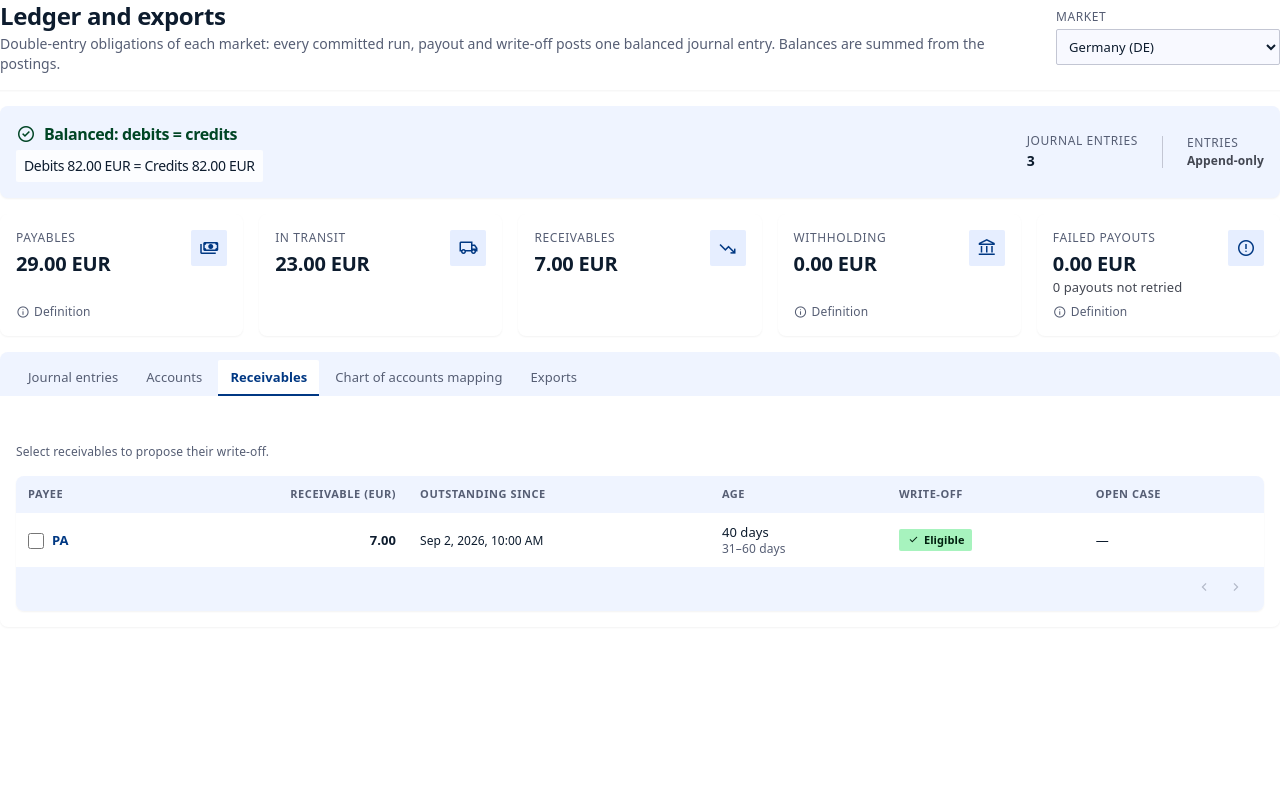
Test: LedgerPage (SC-33) › shows a payee whose case opened but did not submit, and retries only the submit
Step 1. Click the checkbox named "Select PA" → (36, 540), box [28,532,44,548]
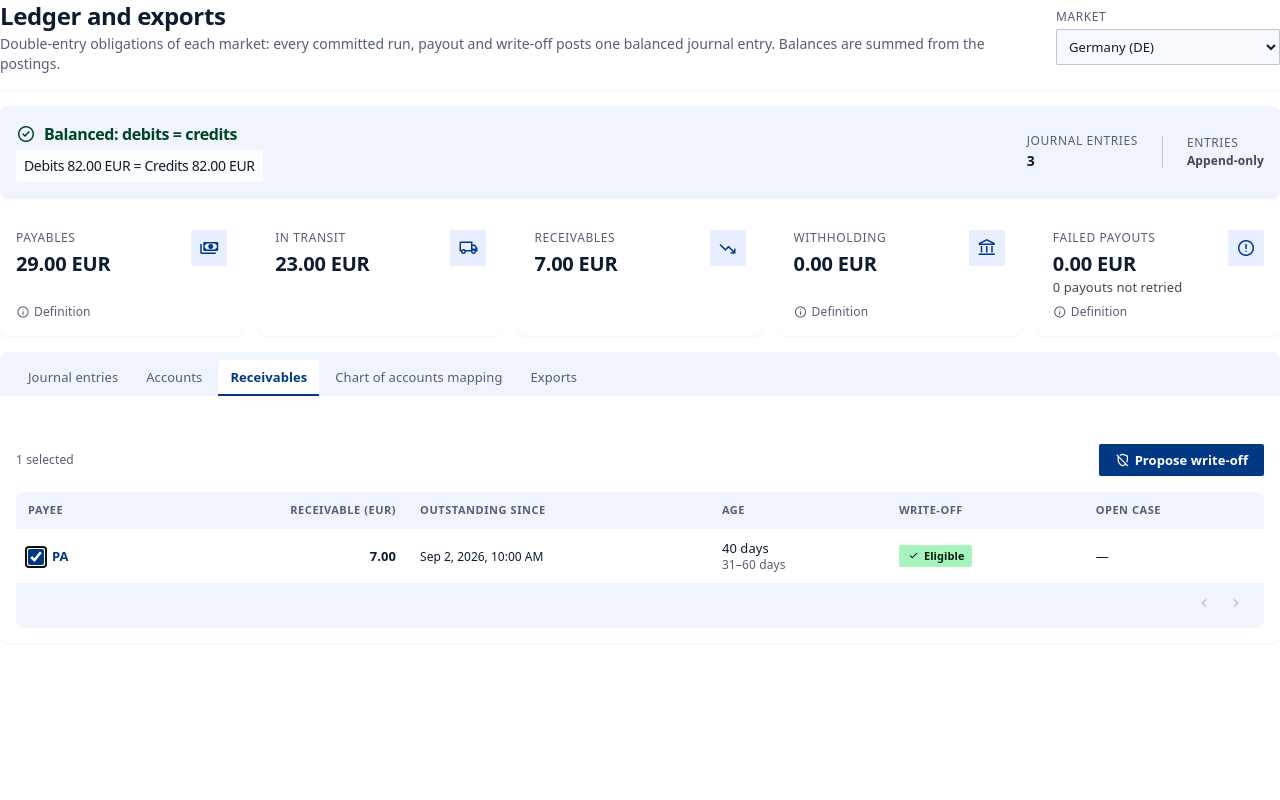
Step 2. Click the button "Propose write-off" → (1181, 460), box [1099,444,1264,476]
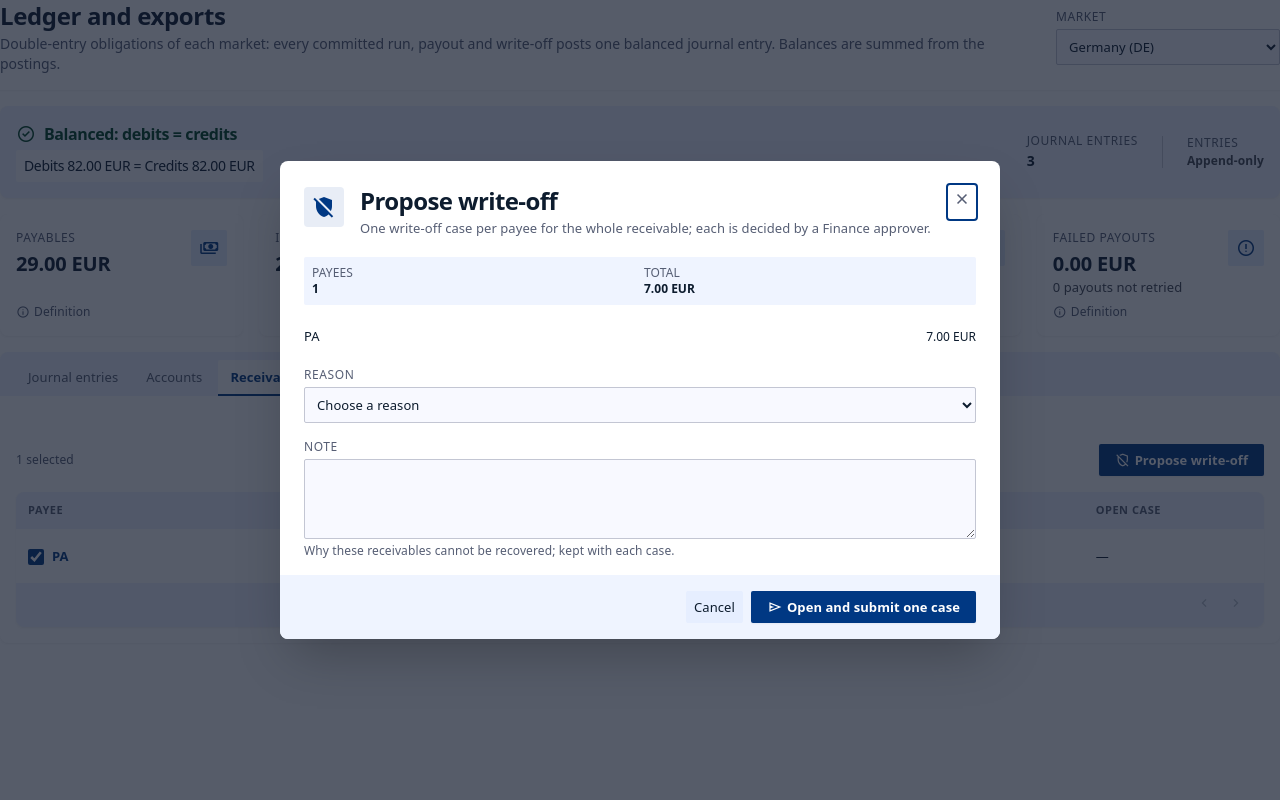
Step 3. Select "Other" in the dropdown labelled "Reason" → (640, 405), box [304,387,976,423]
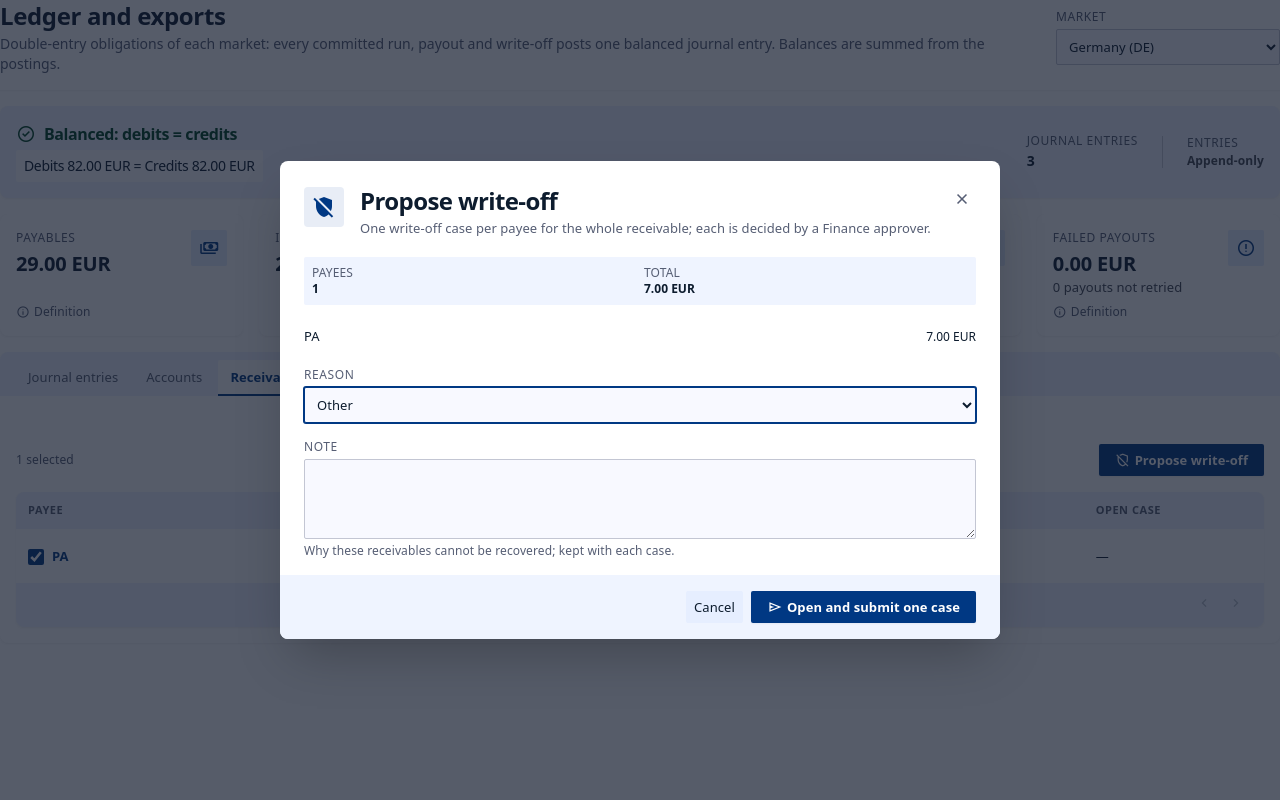
Step 4. Type "n" into the text box labelled "Note" → (640, 499), box [304,459,976,539]
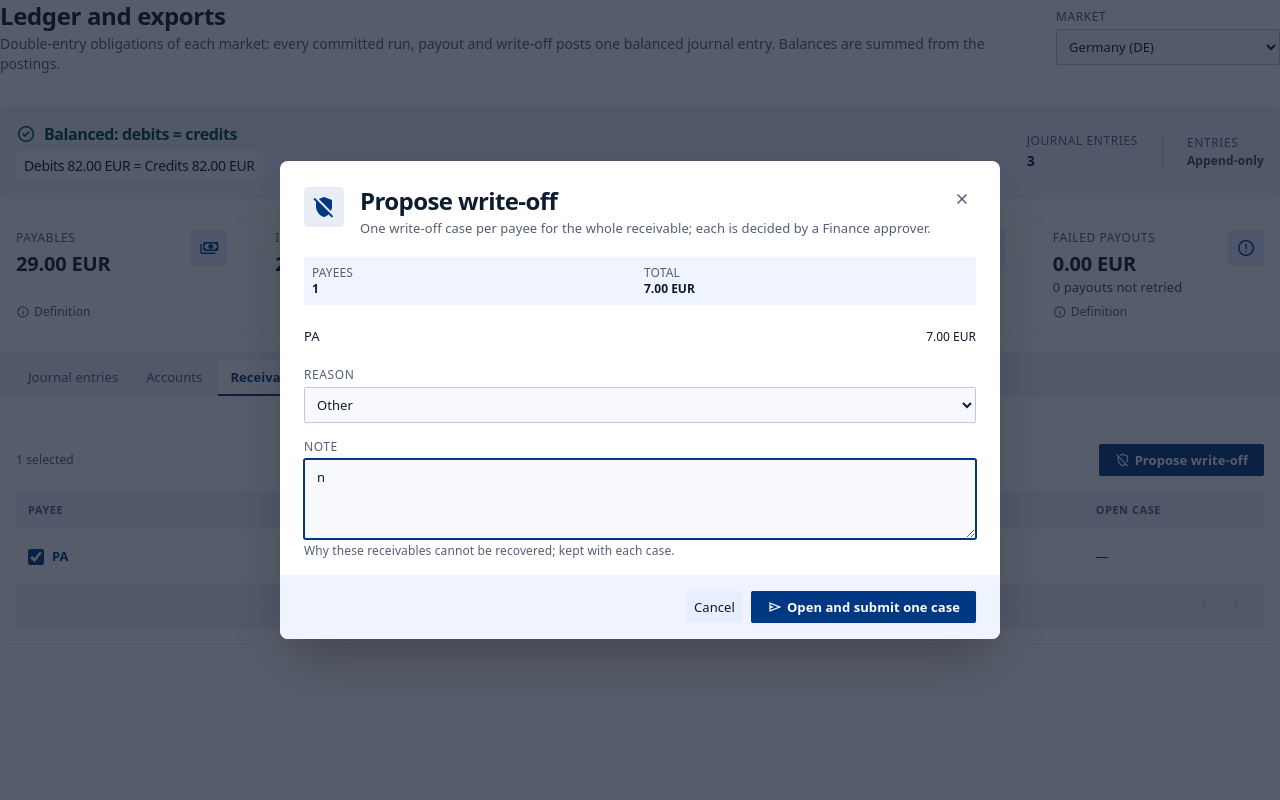
Step 5. Click the button "Open and submit one case" → (863, 607), box [751,591,976,623]
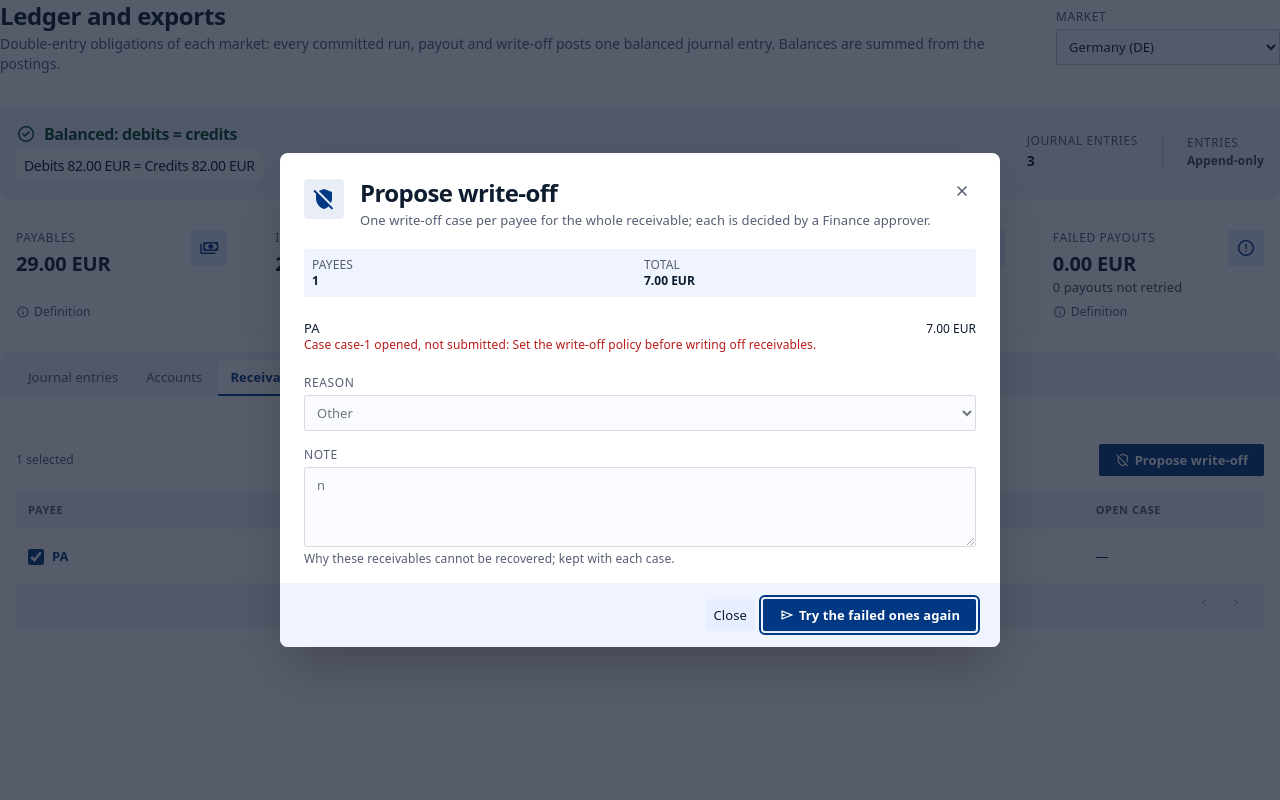
Now the text "opened, not submitted: Set the write-off policy" is shown, box [304,336,816,353]
Step 6. Click the button "Try the failed ones again" → (869, 615), box [763,599,976,631]
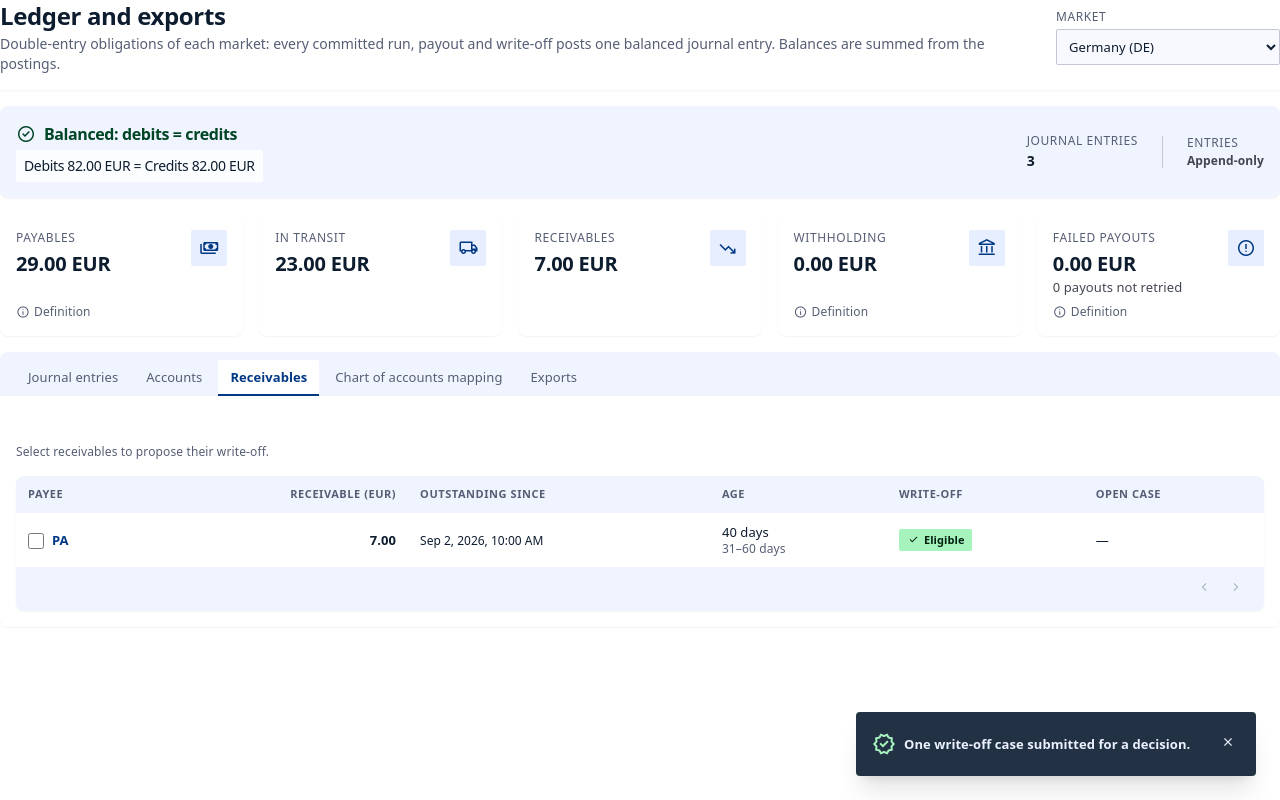
Now the text "One write-off case submitted for a decision." is shown, box [904,735,1208,753]
